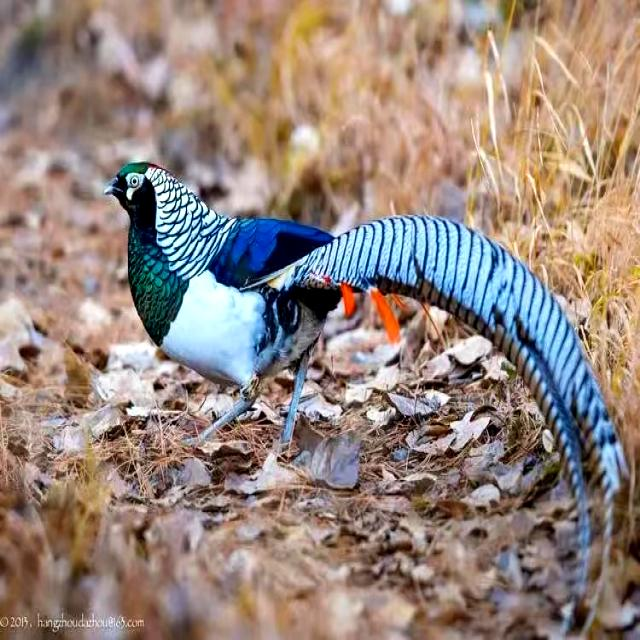Chrysolophus amherstiae: (300, 216, 624, 513)
